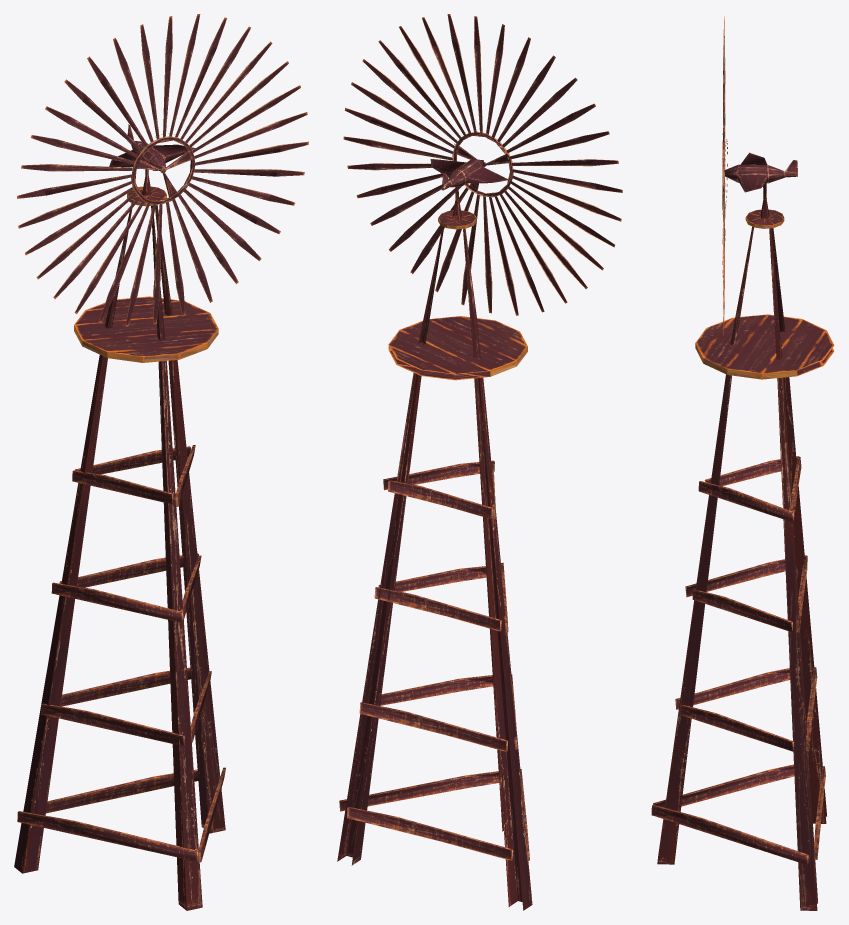
File: Tower.fbx
3 renders of one model, left to right at view 1: azimuth 30°, elevation 25°; view 2: azimuth 150°, elevation 25°; view 3: azimuth 270°, elevation 25°, orthographic. The views are drawn at different scales.
Parts seen in each view (by area): view 1: Tower, Blades; view 2: Tower, Blades; view 3: Tower, Blades.
Boxes of the visible parts, bbox=[...] form: Tower: bbox=[14, 124, 225, 910]; Blades: bbox=[17, 14, 308, 326]; Tower: bbox=[337, 130, 532, 910]; Blades: bbox=[343, 14, 622, 315]; Tower: bbox=[651, 139, 834, 910]; Blades: bbox=[722, 16, 725, 335].
Bounding box in the file's own units: 51.02 × 145 × 28.87.
